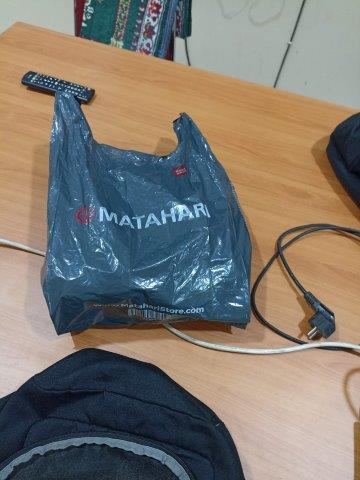plastik: (41, 91, 253, 326)
